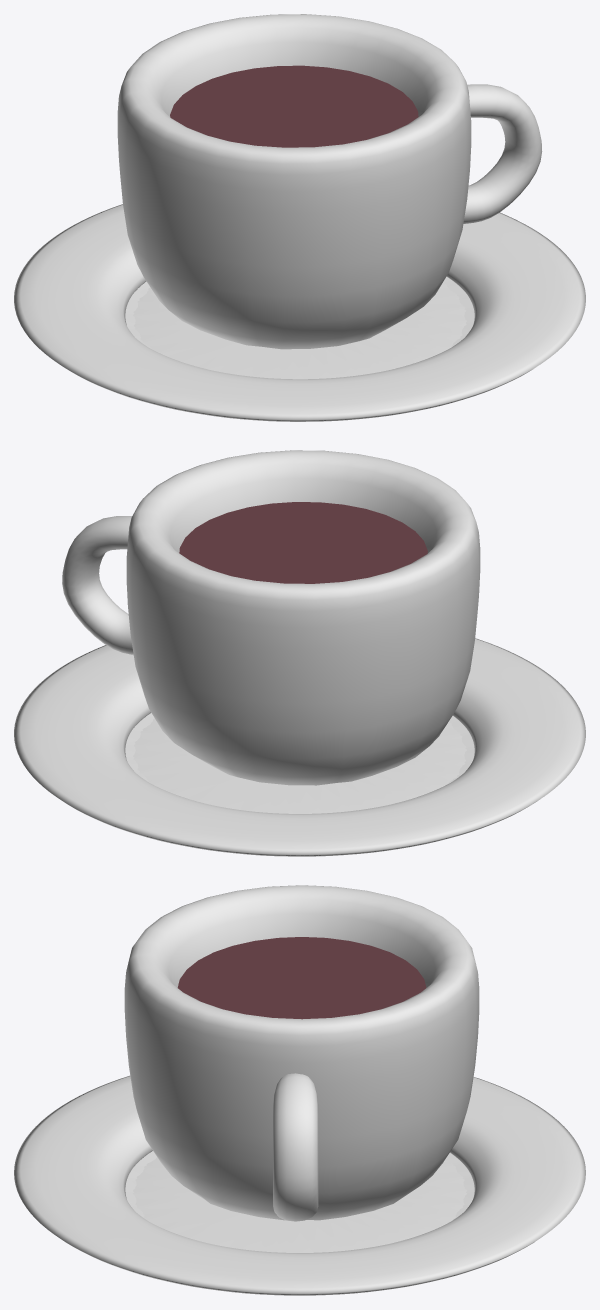
Rendered from tea.fbx.
3 views of the same model, one above another, from view 1: azimuth 30°, elevation 25°; view 2: azimuth 150°, elevation 25°; view 3: azimuth 270°, elevation 25° (orthographic).
Parts seen in each view (by area): view 1: Circle, Circle.007, Circle.005; view 2: Circle, Circle.007, Circle.005; view 3: Circle, Circle.007, Circle.005.
Part boxes in pixels (x1,y1,x2,y2): Circle: (117, 14, 471, 349); Circle.007: (14, 204, 585, 421); Circle.005: (463, 84, 542, 223); Circle: (126, 450, 480, 785); Circle.007: (14, 638, 585, 856); Circle.005: (62, 516, 133, 654); Circle: (124, 885, 479, 1220); Circle.007: (14, 1075, 585, 1295); Circle.005: (273, 1073, 318, 1221).
Bounding box in the file's own units: 0.2076 × 0.096 × 0.2076.
